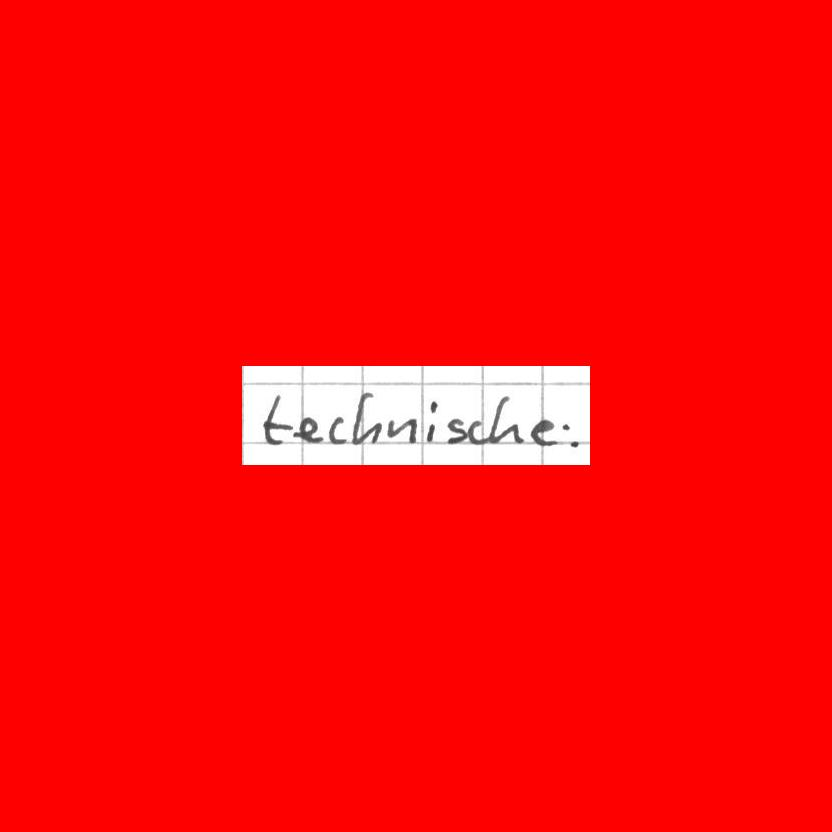Char: (488, 392, 524, 446), (350, 389, 381, 448), (261, 393, 289, 447), (385, 414, 416, 444), (294, 414, 321, 443), (529, 415, 555, 444), (424, 400, 439, 444), (446, 415, 468, 444), (326, 415, 347, 444), (467, 417, 488, 445), (562, 422, 578, 446)
